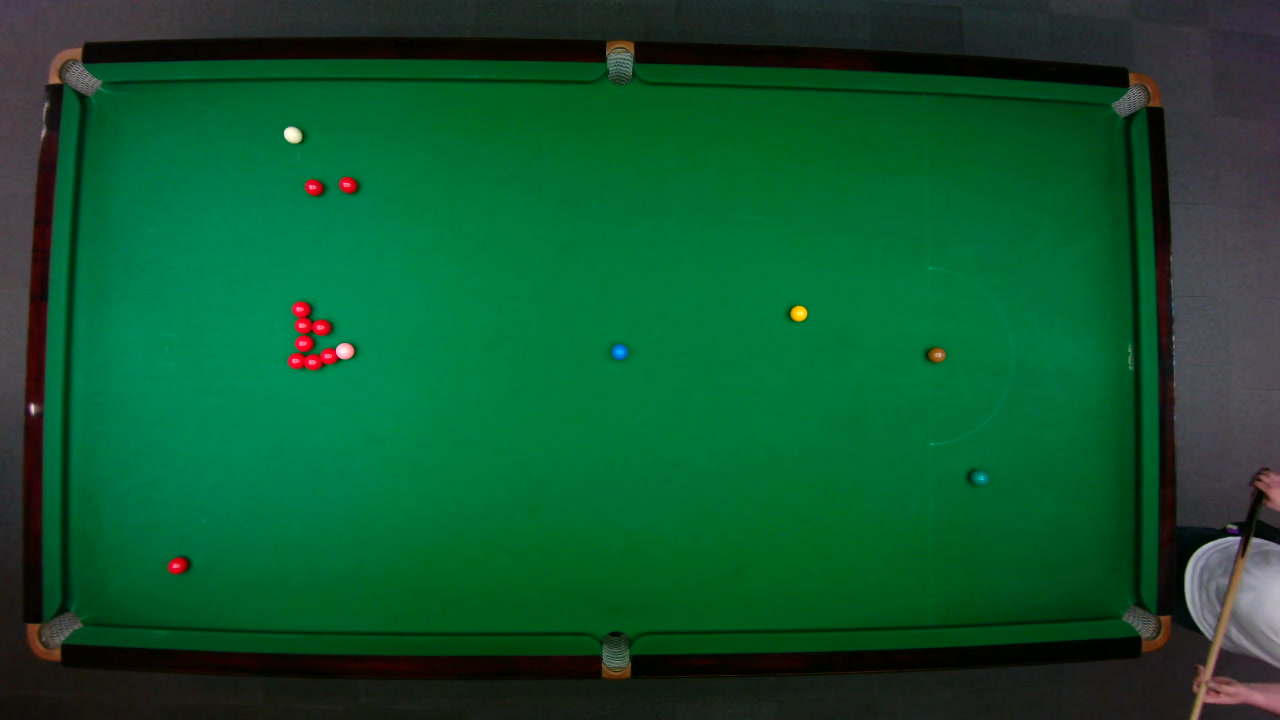bag: (25, 609, 84, 661), (46, 46, 102, 96), (1120, 603, 1172, 652), (1108, 71, 1161, 118), (600, 629, 630, 680), (605, 38, 633, 85)
blue: (610, 342, 628, 360)
brown: (926, 346, 945, 362)
cue: (1186, 489, 1265, 720)
green: (969, 468, 989, 486)
pink: (334, 341, 355, 360)
red: (165, 555, 188, 574), (302, 177, 324, 196), (337, 175, 358, 194), (302, 352, 324, 370), (310, 317, 331, 335), (290, 299, 311, 317), (318, 346, 337, 365), (293, 334, 313, 352), (286, 351, 305, 369), (292, 317, 312, 334)
white: (282, 124, 303, 144)
yellow: (788, 303, 808, 322)
zone: (927, 266, 1013, 445)
